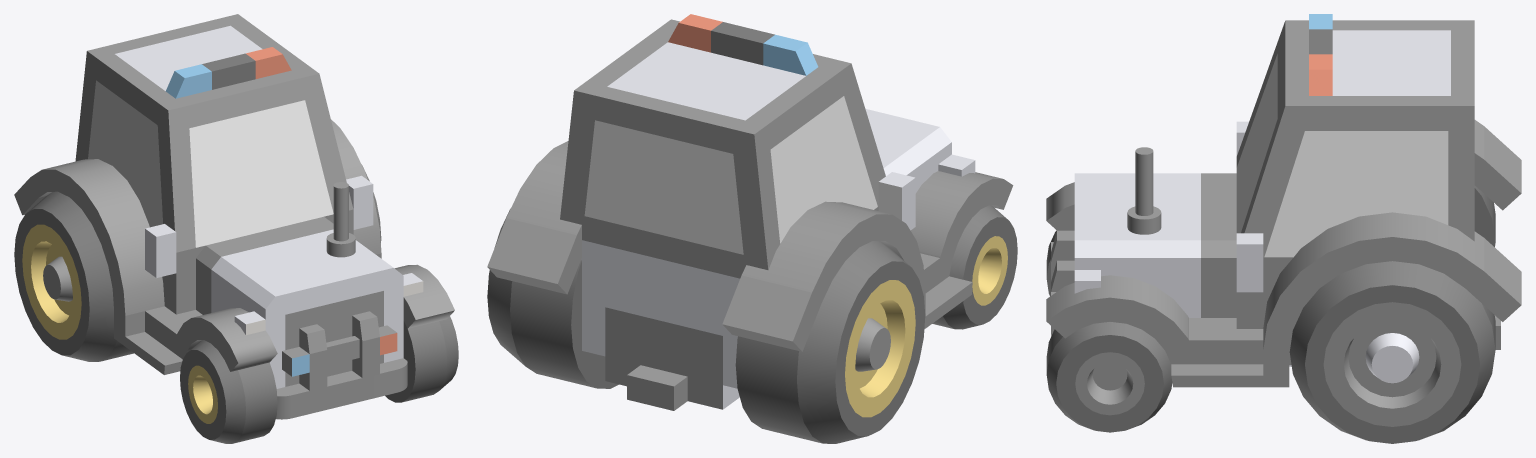
Rendered from tractor-police.gltf.
3 views of the same model, side by side, from view 1: azimuth 30°, elevation 25°; view 2: azimuth 150°, elevation 25°; view 3: azimuth 270°, elevation 25° (orthographic). The views are drawn at different scales.
Parts seen in each view (by area): view 1: tractorPolice; view 2: tractorPolice; view 3: tractorPolice.
Boxes of the visible parts, bbox=[...] form: tractorPolice: bbox=[14, 14, 458, 443]; tractorPolice: bbox=[487, 14, 1017, 443]; tractorPolice: bbox=[1046, 14, 1521, 443].
Size of the model in its own units: 1.25 by 1.17 by 1.51.
